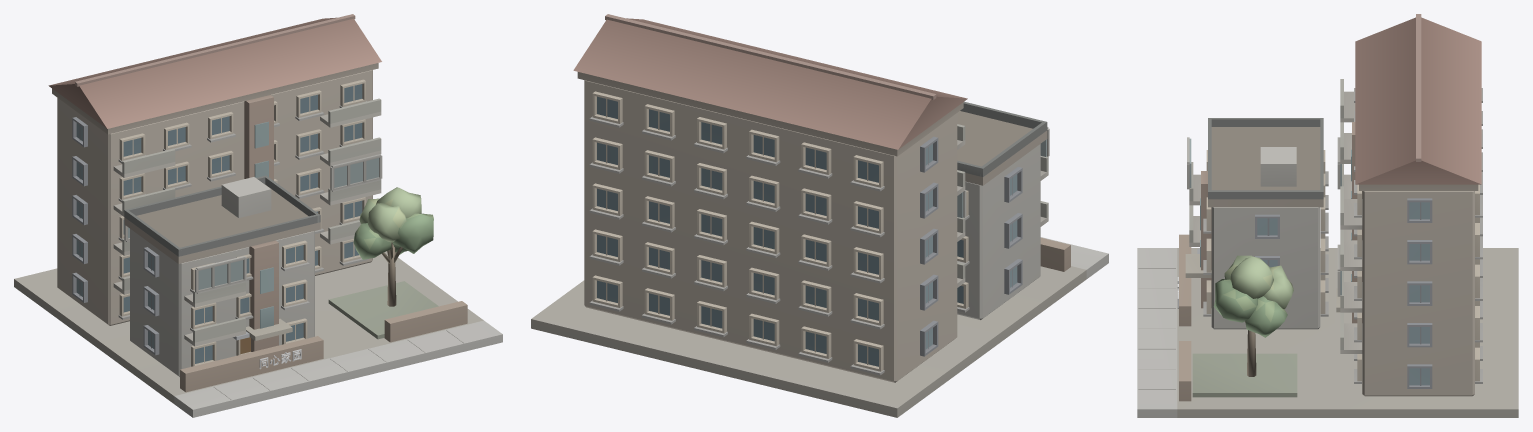
File: resettlement.glb
3 renders of one model, left to right at view 1: azimuth 30°, elevation 25°; view 2: azimuth 150°, elevation 25°; view 3: azimuth 270°, elevation 25°, orthographic. The views are drawn at different scales.
Visible parts, largest first — view 1: resettlement; view 2: resettlement; view 3: resettlement.
Boxes of the visible parts, x1,y1,x2,y2 form: resettlement: [14, 14, 502, 417]; resettlement: [531, 14, 1108, 417]; resettlement: [1137, 14, 1518, 417].
Bounding box in the file's own units: 2 × 1.45 × 2.
